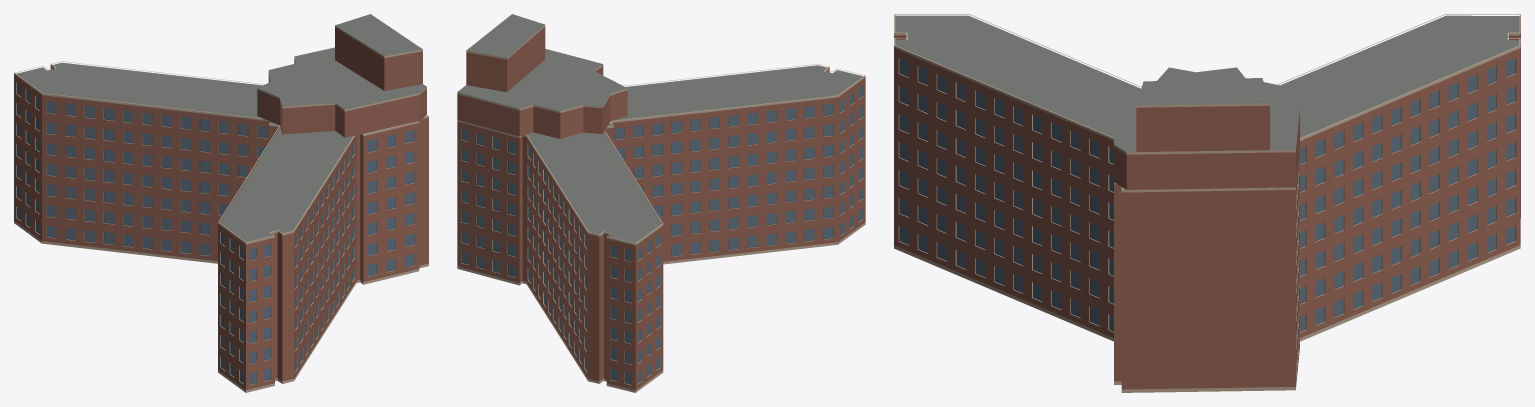
File: dc-au-centennial-hall.detail.glb
The picture shows the model from 3 angles, left to right: view 1: azimuth 30°, elevation 25°; view 2: azimuth 150°, elevation 25°; view 3: azimuth 270°, elevation 25°; orthographic projection. The views are drawn at different scales.
Parts seen in each view (by area): view 1: Centennial Hall; view 2: Centennial Hall; view 3: Centennial Hall.
Boxes of the visible parts, x1=… form: Centennial Hall: x1=14, y1=14, x2=428, y2=392; Centennial Hall: x1=457, y1=14, x2=865, y2=392; Centennial Hall: x1=894, y1=14, x2=1520, y2=392.
Bounding box in the file's own units: 49.12 × 37.4 × 73.89.
